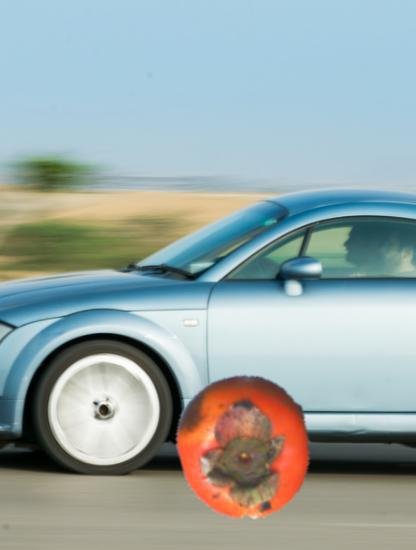Kaki: (171, 372, 320, 521)
